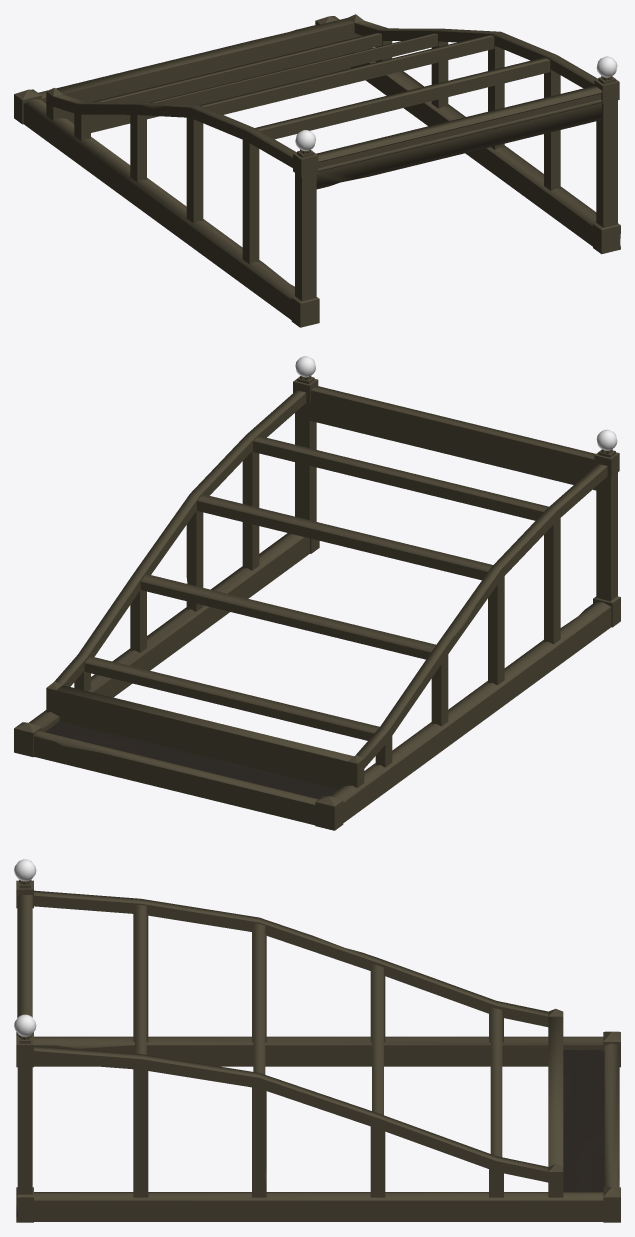
The model's file is SW_ENV_StreetEntrance_02.fbx.
3 views of the same model, one above another, from view 1: azimuth 30°, elevation 25°; view 2: azimuth 150°, elevation 25°; view 3: azimuth 270°, elevation 25° (orthographic). The views are drawn at different scales.
Visible parts, largest first — view 1: SW_ENV_StreetEntrance_02; view 2: SW_ENV_StreetEntrance_02; view 3: SW_ENV_StreetEntrance_02.
Part boxes in pixels (bbox=[...]): SW_ENV_StreetEntrance_02: bbox=[14, 14, 620, 327]; SW_ENV_StreetEntrance_02: bbox=[14, 356, 620, 830]; SW_ENV_StreetEntrance_02: bbox=[14, 859, 620, 1222].
Bounding box in the file's own units: 6.6 × 3.76 × 10.24.
